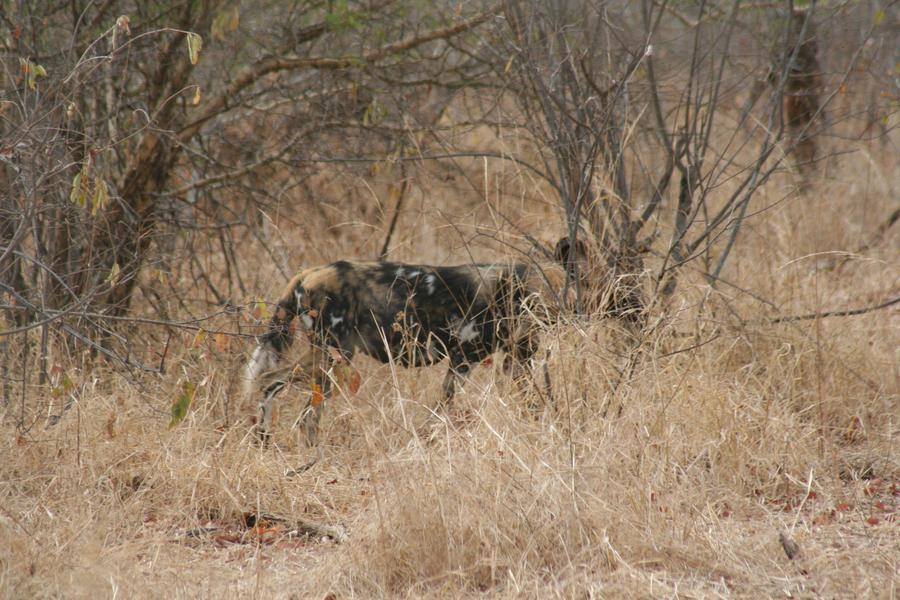wilddog: (264, 262, 561, 395)
